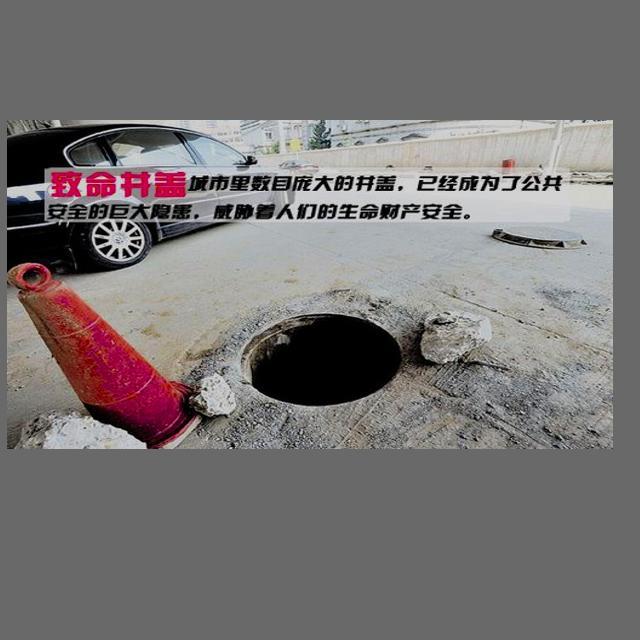lose: (233, 305, 411, 413)
